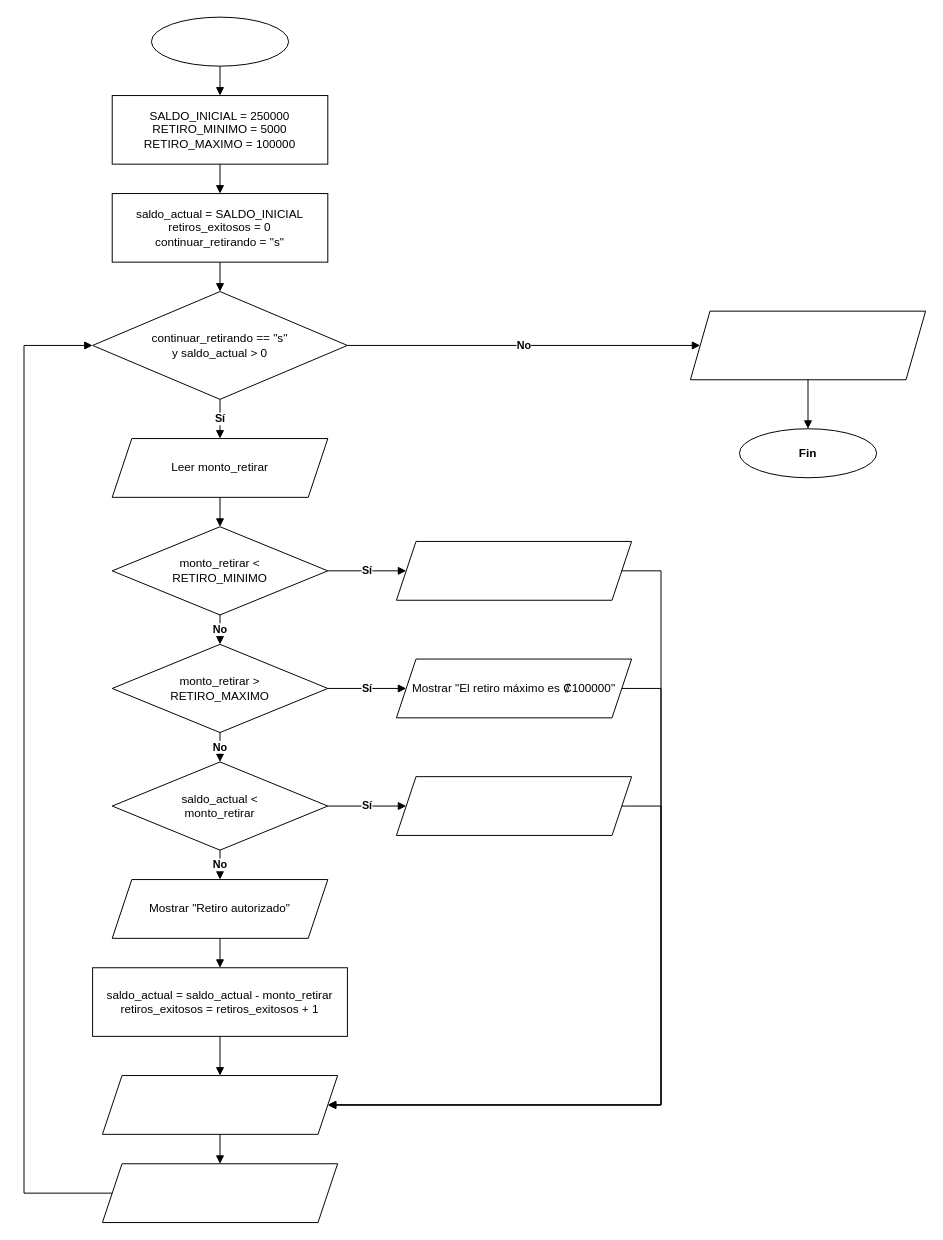
Some shapes in this 943 by 1240 pixel diagram are drawn without their labels. The centre of each missing label's shape, as x and y in pixels:
Inicio: (219,41)
Leer continuar_retirando (s/n): (219,1193)
Mostrar "El retiro mínimo es ₡5000": (513,570)
Mostrar "Saldo actual", saldo_actual: (219,1104)
Mostrar "Saldo insuficiente": (513,805)
Mostrar saldo_actual y retiros_exitosos: (807,345)
